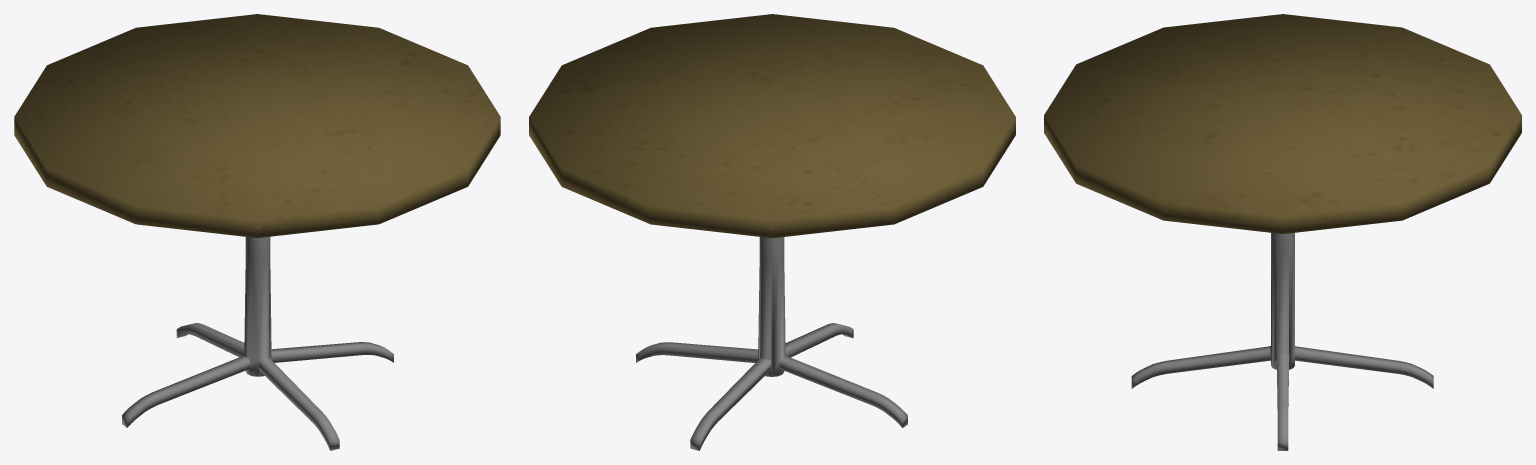
The model's file is Mesa.fbx.
3 renders of one model, left to right at view 1: azimuth 30°, elevation 25°; view 2: azimuth 150°, elevation 25°; view 3: azimuth 270°, elevation 25°, orthographic.
Parts seen in each view (by area): view 1: Mesa; view 2: Mesa; view 3: Mesa.
Part boxes in pixels (box(x1,y1,x2,y2)): Mesa: box(14, 14, 500, 450); Mesa: box(529, 14, 1015, 450); Mesa: box(1044, 14, 1521, 450).
Size of the model in its own units: 561 by 352 by 561.
